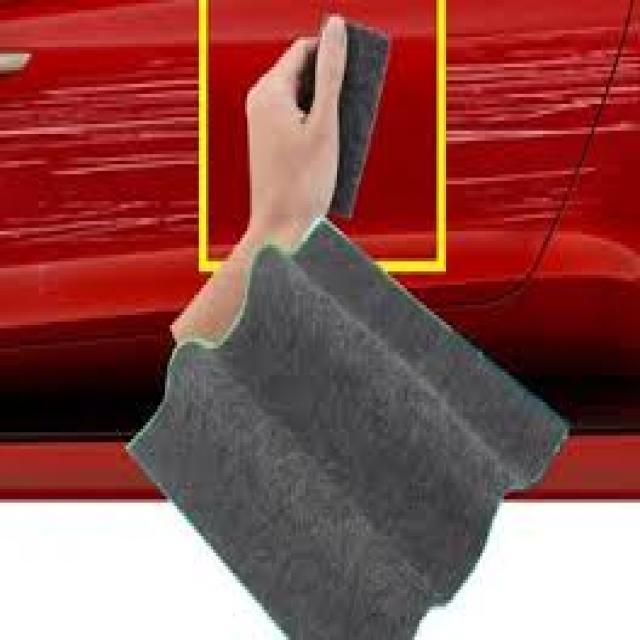dent-or-scratch: (450, 48, 640, 226), (1, 78, 198, 248)
